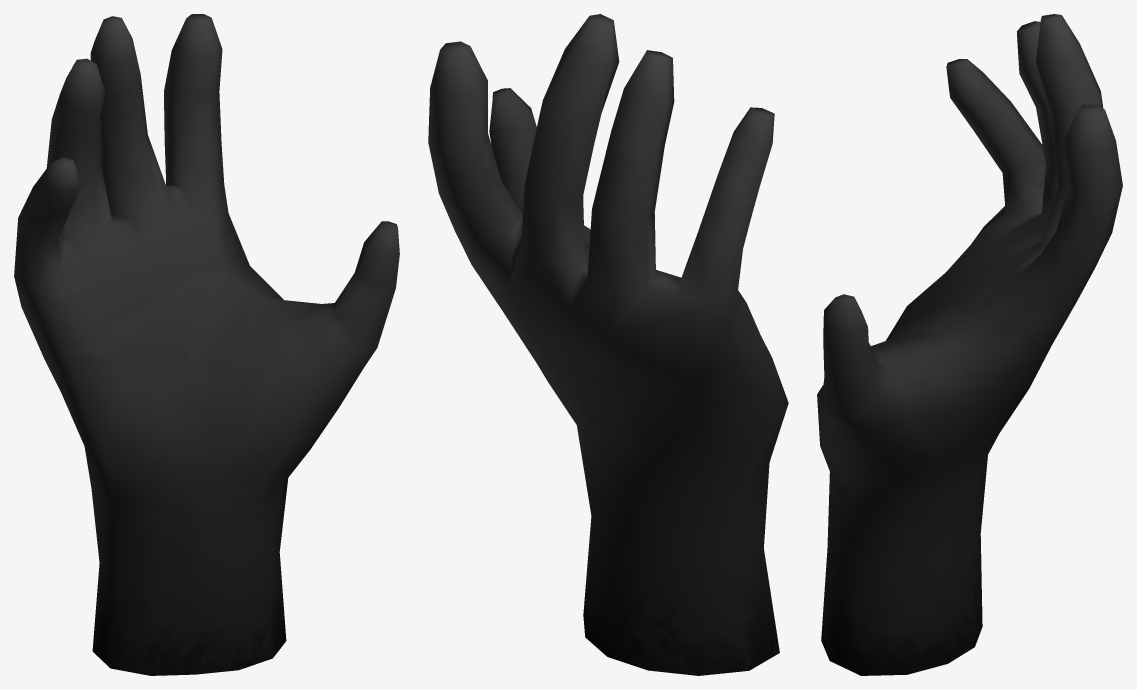
File: BossObstacle.fbx
3 renders of one model, left to right at view 1: azimuth 30°, elevation 25°; view 2: azimuth 150°, elevation 25°; view 3: azimuth 270°, elevation 25°, orthographic. The views are drawn at different scales.
Parts seen in each view (by area): view 1: HandProp; view 2: HandProp; view 3: HandProp.
Part boxes in pixels (x1=…): HandProp: x1=14, y1=14, x2=399, y2=675; HandProp: x1=428, y1=14, x2=788, y2=675; HandProp: x1=817, y1=14, x2=1122, y2=675.
Bounding box in the file's own units: 306 × 566 × 255.
